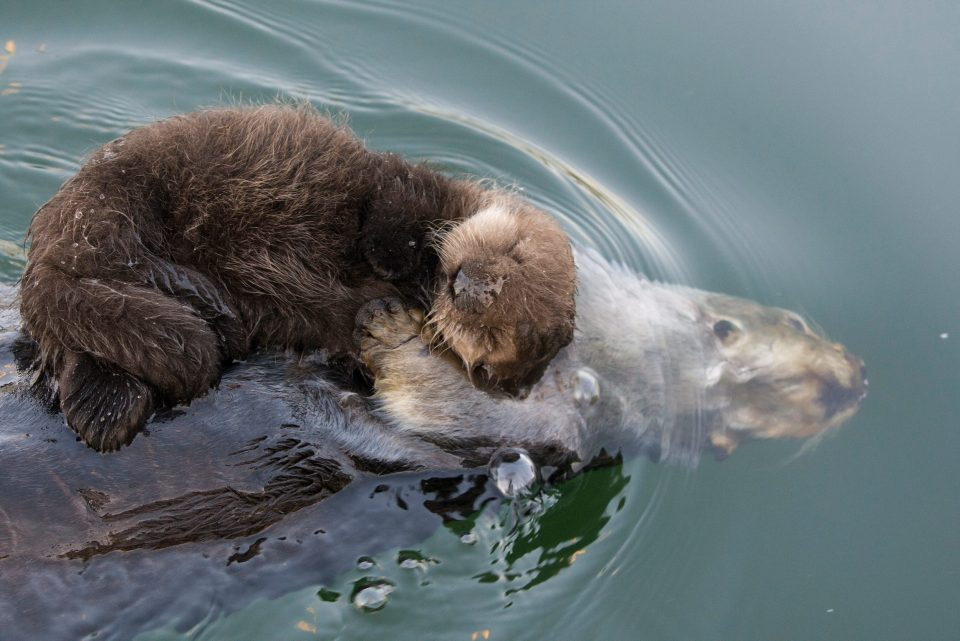otter: (20, 102, 618, 461)
